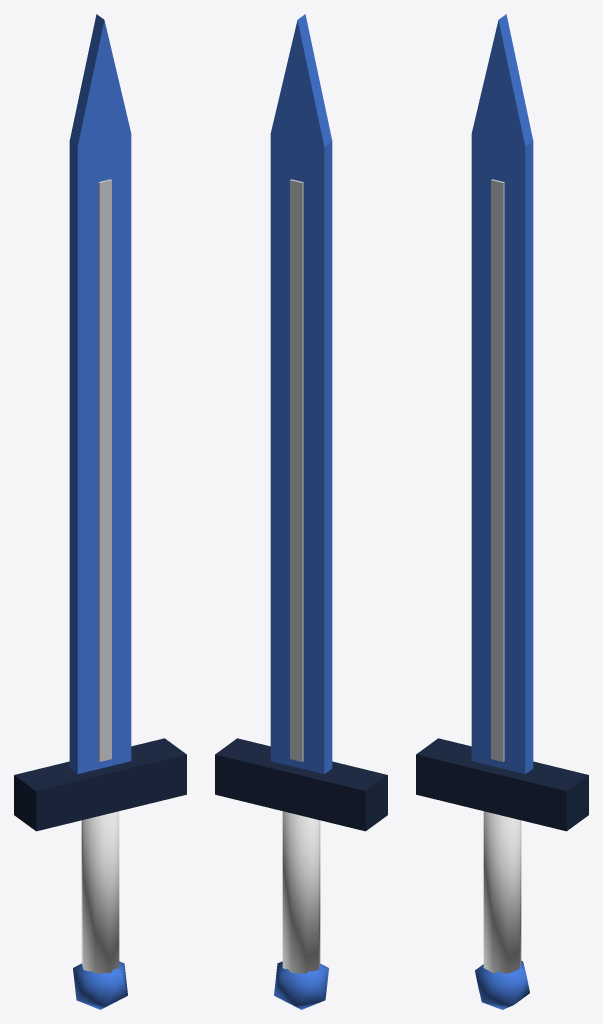
The model's file is muramasa.glb.
3 renders of one model, left to right at view 1: azimuth 30°, elevation 25°; view 2: azimuth 150°, elevation 25°; view 3: azimuth 330°, elevation 25°, orthographic.
Visible parts, largest first — view 1: muramasa_v0; view 2: muramasa_v0; view 3: muramasa_v0.
Part boxes in pixels (x1=…): muramasa_v0: x1=14, y1=14, x2=186, y2=1009; muramasa_v0: x1=215, y1=14, x2=387, y2=1009; muramasa_v0: x1=416, y1=14, x2=588, y2=1009.
Size of the model in its own units: 0.196 by 1.23 by 0.0595.
